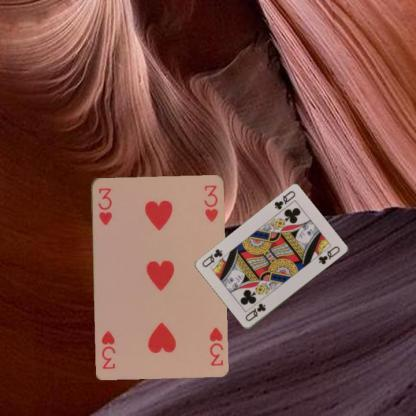3h: (206, 325, 225, 367), (95, 185, 113, 226)
Qc: (272, 188, 296, 211), (243, 301, 267, 322)
